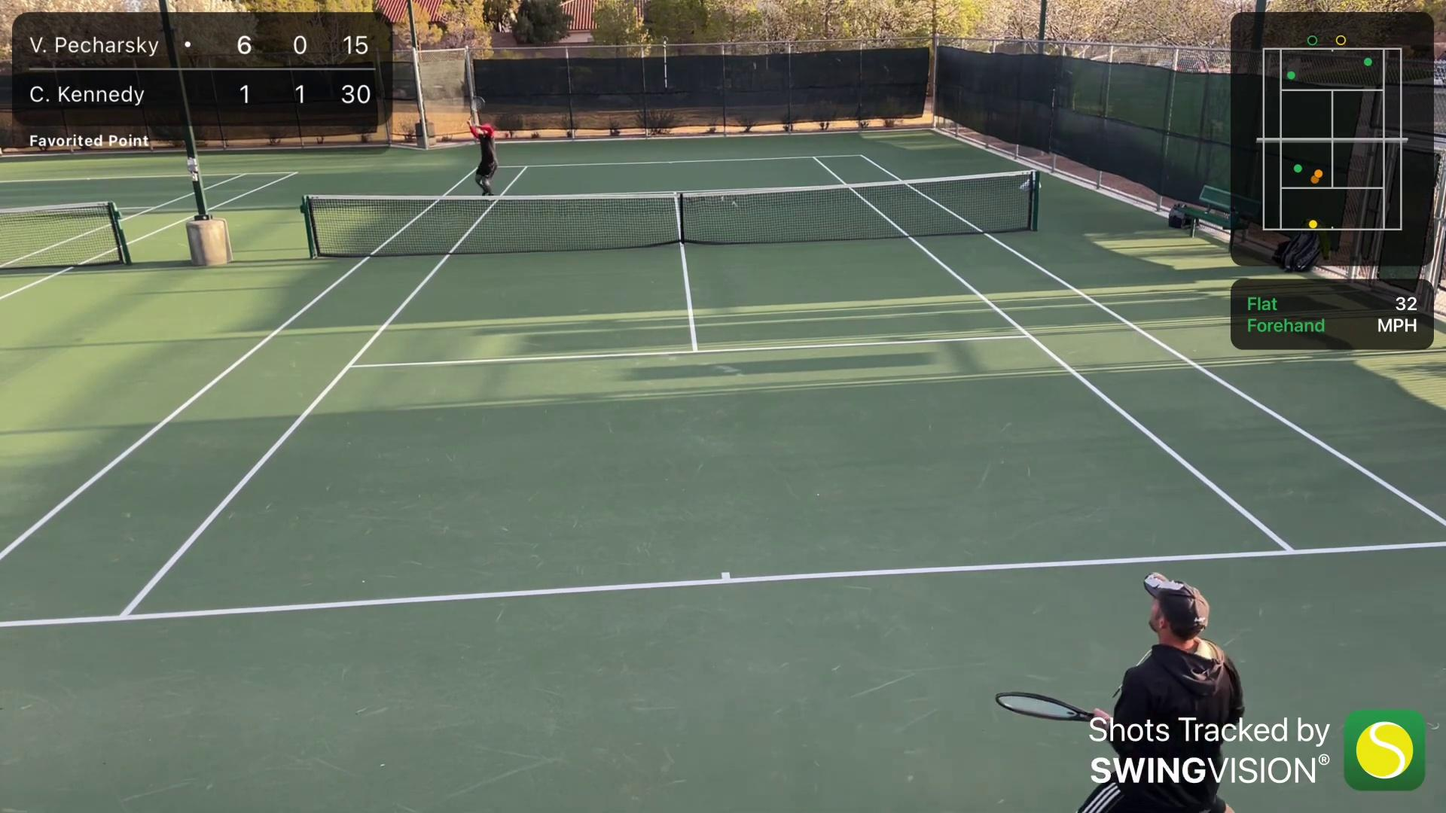ball: (458, 23, 464, 28)
